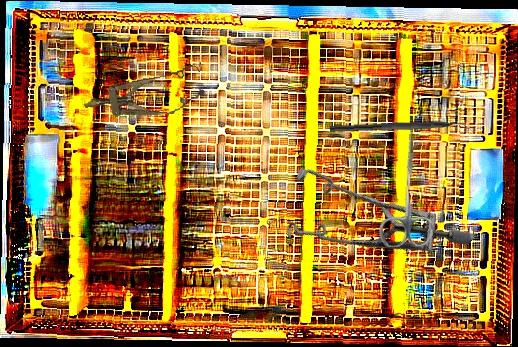Chopper: (329, 118, 475, 142)
Iris Scissors: (378, 126, 438, 249)
Speculum: (259, 114, 477, 332), (80, 61, 209, 129)
